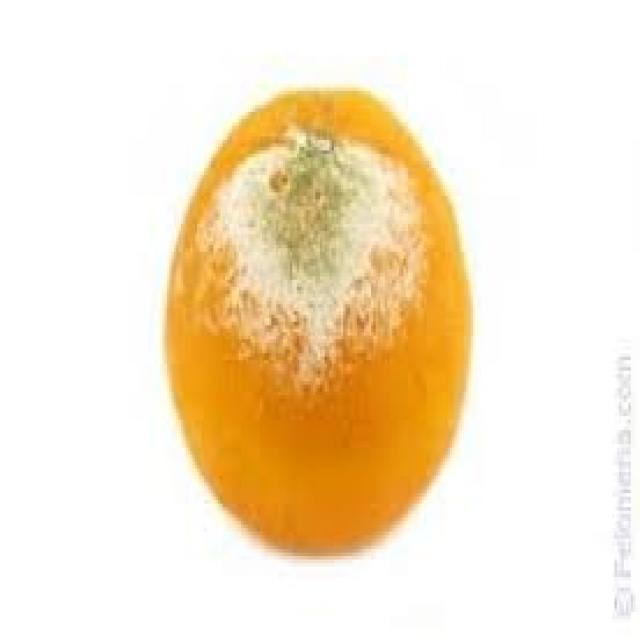organic waste: (160, 84, 468, 556)
